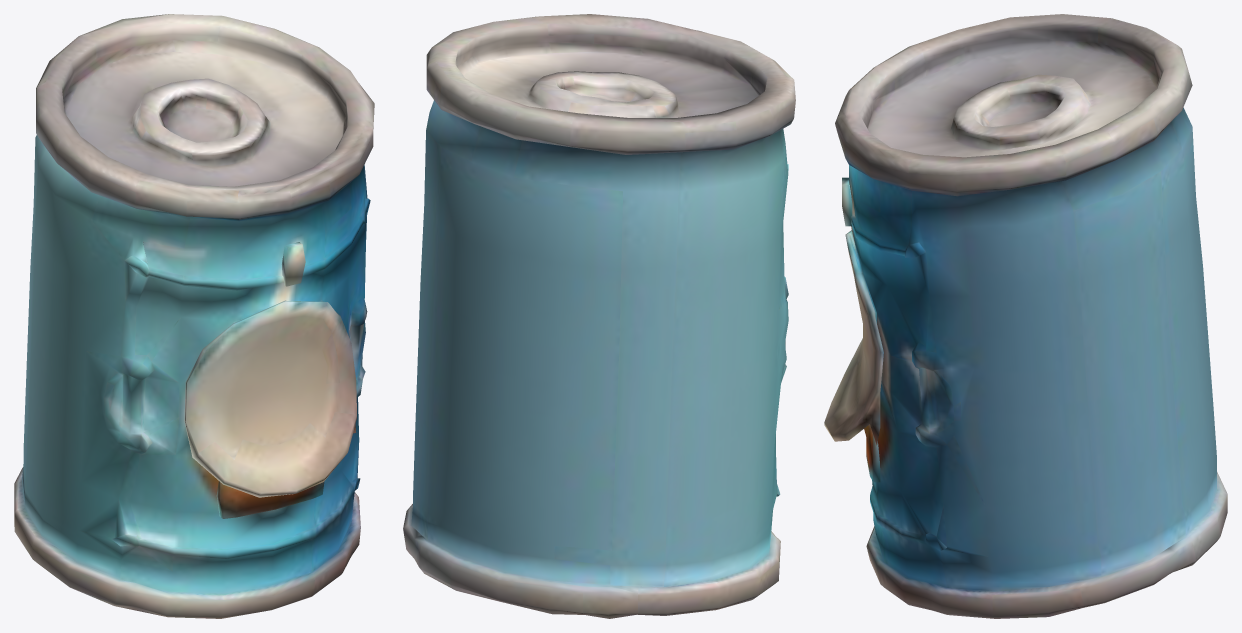
Rendered from coconut-milk.glb.
3 views of the same model, side by side, from view 1: azimuth 30°, elevation 25°; view 2: azimuth 150°, elevation 25°; view 3: azimuth 270°, elevation 25° (orthographic). The views are drawn at different scales.
Parts seen in each view (by area): view 1: Coconut Milk; view 2: Coconut Milk; view 3: Coconut Milk.
Boxes of the visible parts, left/top/right/bottom form: Coconut Milk: left=14, top=14, right=374, bottom=618; Coconut Milk: left=403, top=14, right=795, bottom=618; Coconut Milk: left=824, top=14, right=1227, bottom=618.
Size of the model in its own units: 1.46 by 2.2 by 1.61.
Materials: 1 (1 with a texture image).
